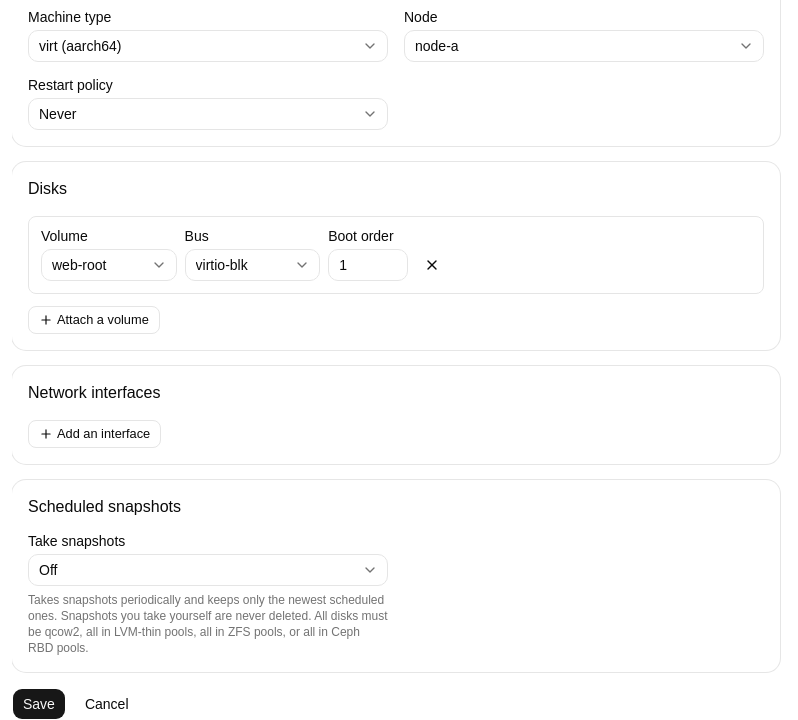
warns that disks in shared LVM pools cannot be snapshotted on a schedule
(page scrolled)
Select "Daily" in the dropdown labelled "Take snapshots": (208, 570) top-left (28, 554), bottom-right (388, 586)
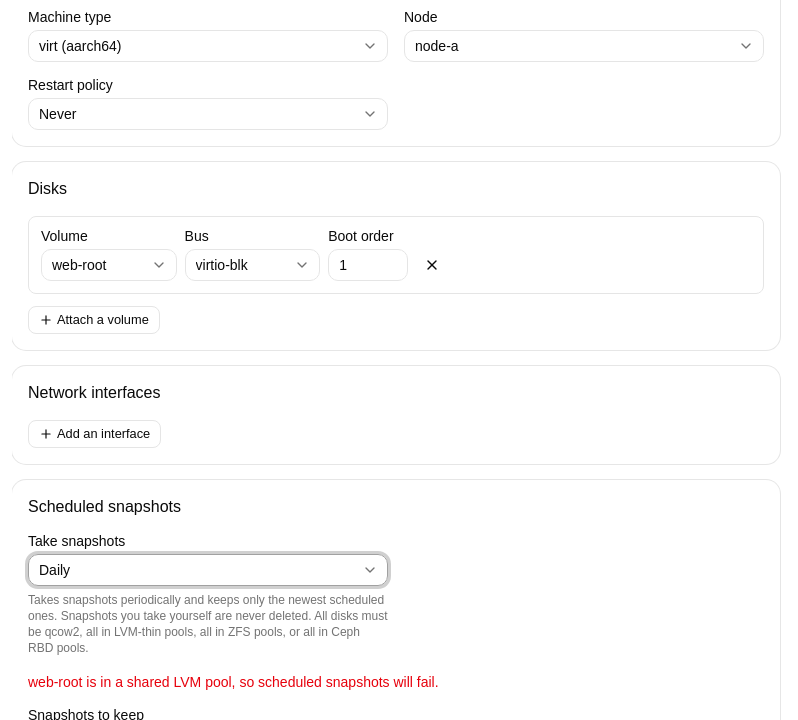
Check: the text "web-root is in a shared LVM pool, so scheduled snapshots will fail." is shown, box top-left (28, 674), bottom-right (439, 690)
